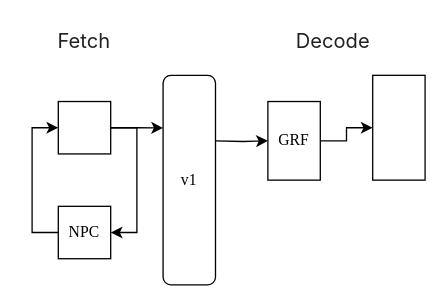
Image size: 448x308. Some labels were removed from this diagram. The shapes that lost their labels are listed below. From the top down, each one's centre as x and y in pixels, then its label:
[84,127]: PC
[398,127]: v1R v2R
